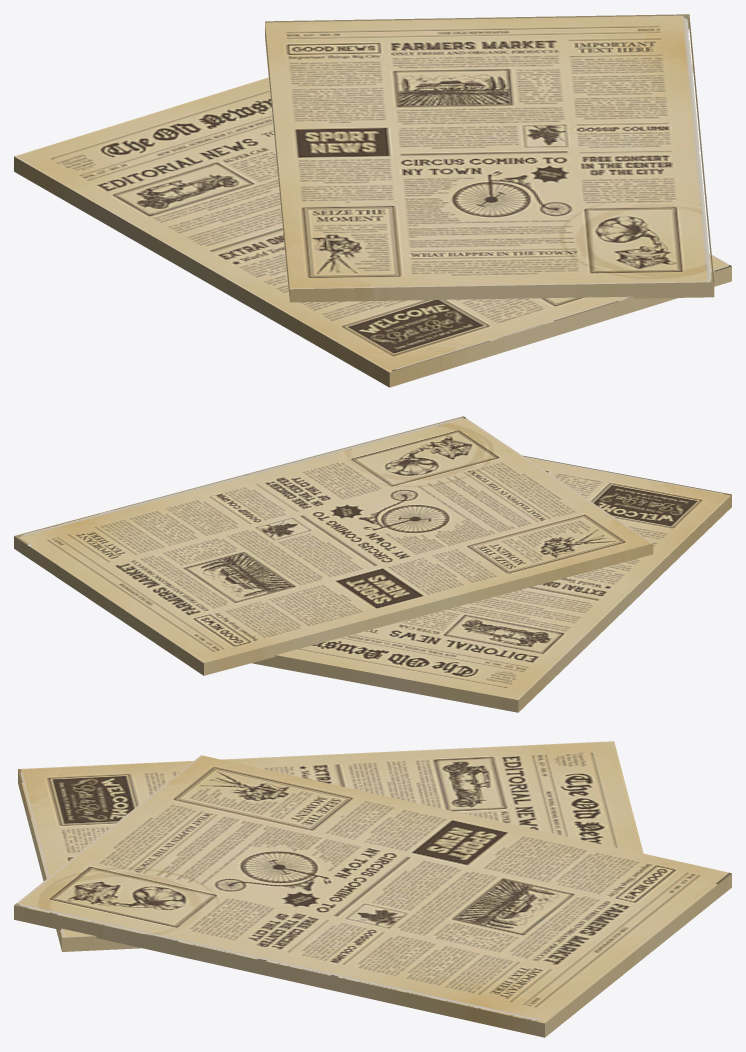
File: Newspaper.fbx
The picture shows the model from 3 angles, top to bottom: view 1: azimuth 30°, elevation 25°; view 2: azimuth 150°, elevation 25°; view 3: azimuth 270°, elevation 25°; orthographic projection. The views are drawn at different scales.
Visible parts, largest first — view 1: newspaper.001, newspaper; view 2: newspaper.001, newspaper; view 3: newspaper.001, newspaper.
Boxes of the visible parts, x1=… form: newspaper.001: x1=265, y1=14, x2=714, y2=302; newspaper: x1=14, y1=77, x2=731, y2=387; newspaper.001: x1=14, y1=416, x2=653, y2=675; newspaper: x1=252, y1=455, x2=731, y2=712; newspaper.001: x1=14, y1=755, x2=731, y2=1037; newspaper: x1=18, y1=741, x2=643, y2=951.
Bounding box in the file's own units: 116 × 4.93 × 120.
